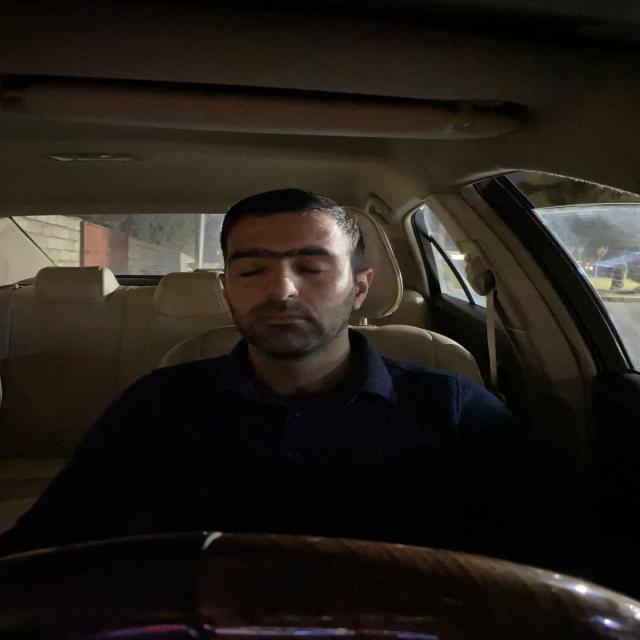drowsy: (214, 185, 375, 360)
